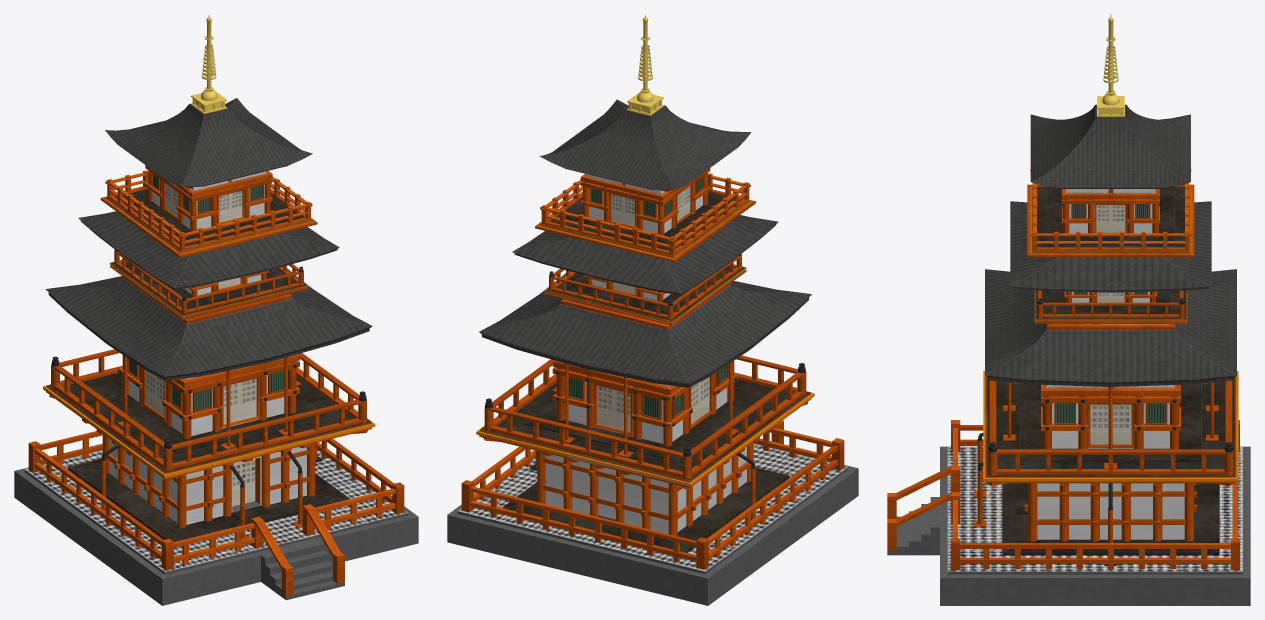
File: japanese_temple_model.glb
The picture shows the model from 3 angles, left to right: view 1: azimuth 30°, elevation 25°; view 2: azimuth 150°, elevation 25°; view 3: azimuth 270°, elevation 25°; orthographic projection. The views are drawn at different scales.
Parts seen in each view (by area): view 1: Japanese_Shrine; view 2: Japanese_Shrine; view 3: Japanese_Shrine.
Part boxes in pixels (<box>): Japanese_Shrine: <box>14,14,418,605</box>; Japanese_Shrine: <box>447,14,858,605</box>; Japanese_Shrine: <box>887,14,1250,605</box>.
Size of the model in its own units: 20 by 37.38 by 23.4.
1 material, 1 textured.
